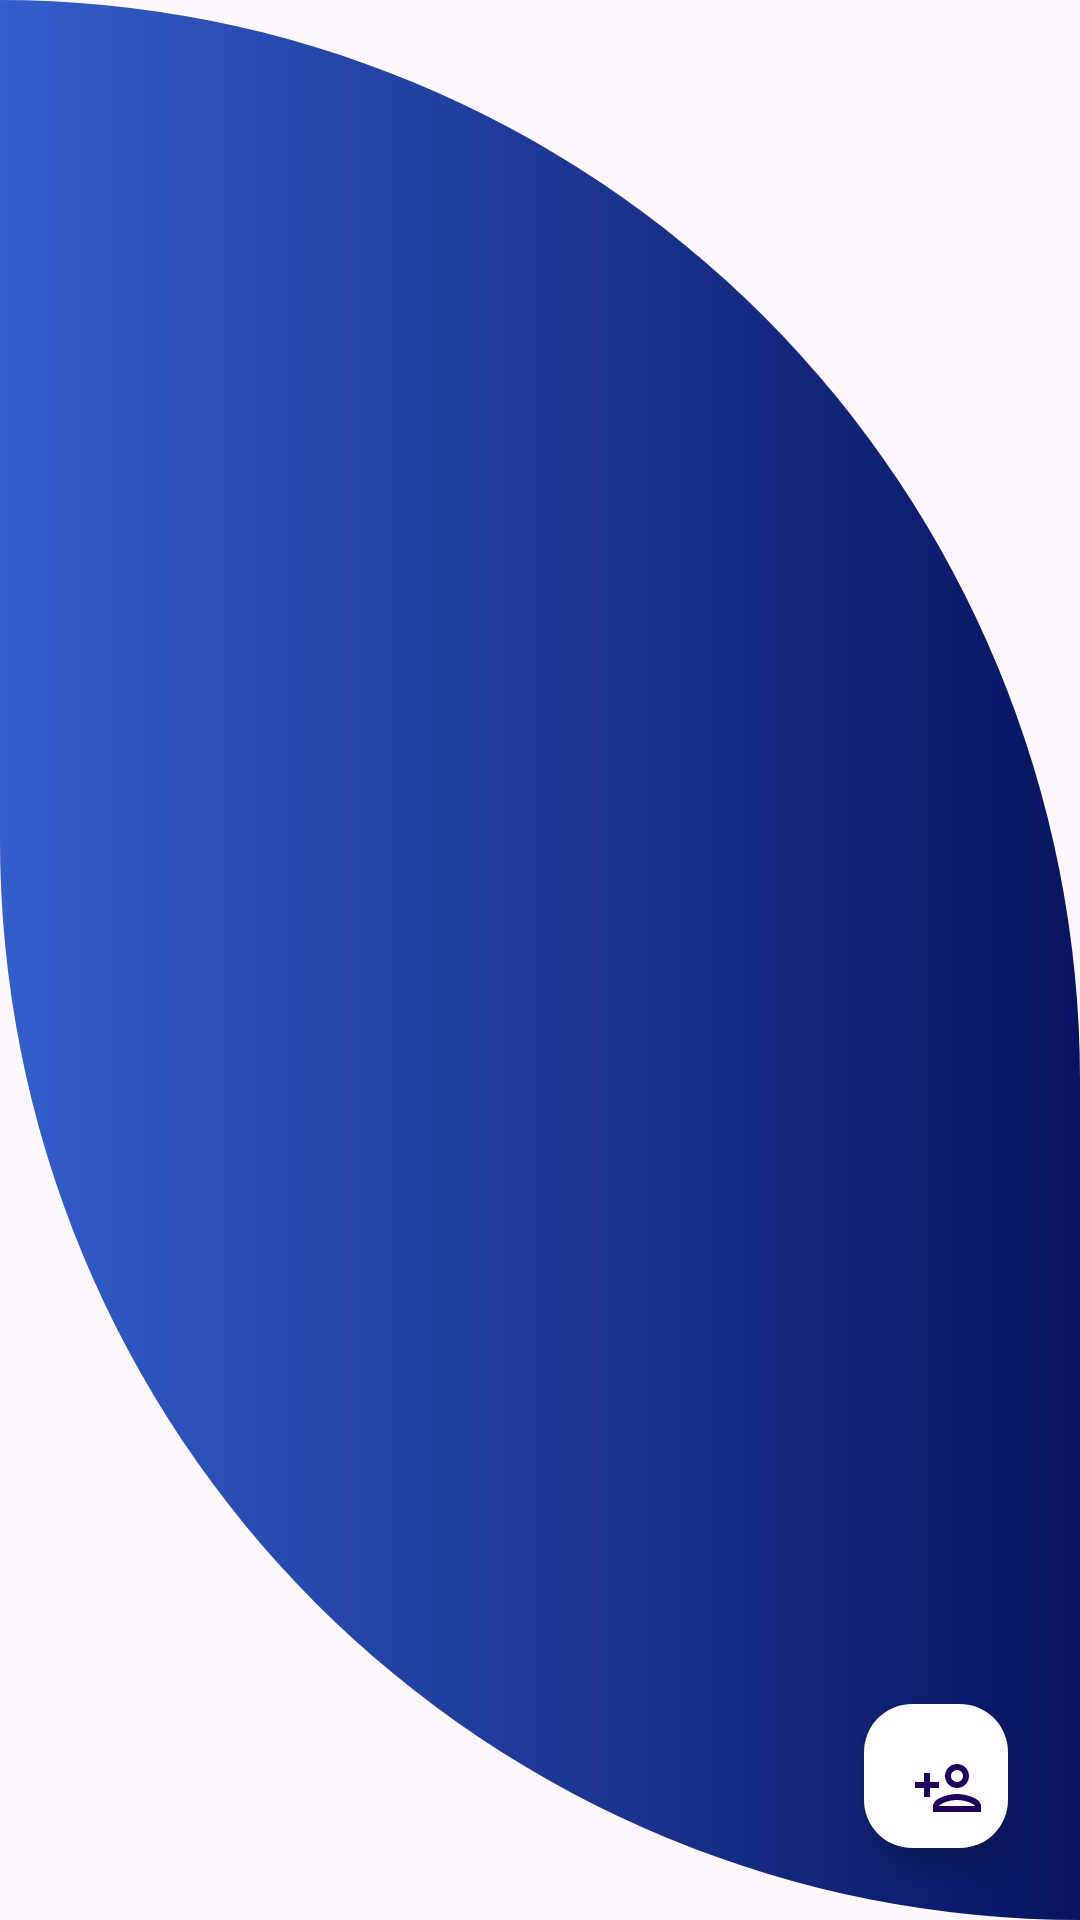

Icon click points for this 1080x1920 phone screenshot, format (x=x, y=y):
person add: (x=936, y=1776)
